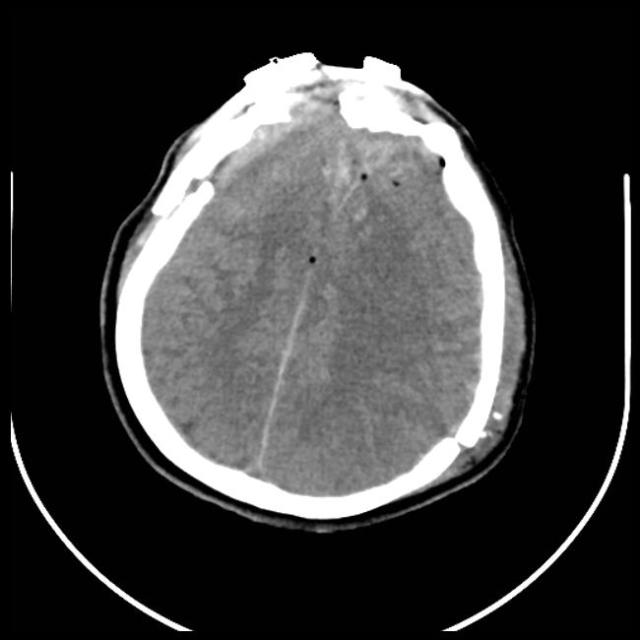lesion: (100, 50, 534, 525)
